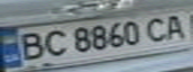0: (121, 18, 145, 47)
6: (106, 20, 127, 50)
8: (69, 24, 93, 55), (90, 21, 112, 52)
A: (160, 11, 190, 42)
B: (12, 29, 48, 62)
C: (142, 14, 175, 44), (39, 27, 69, 58)
